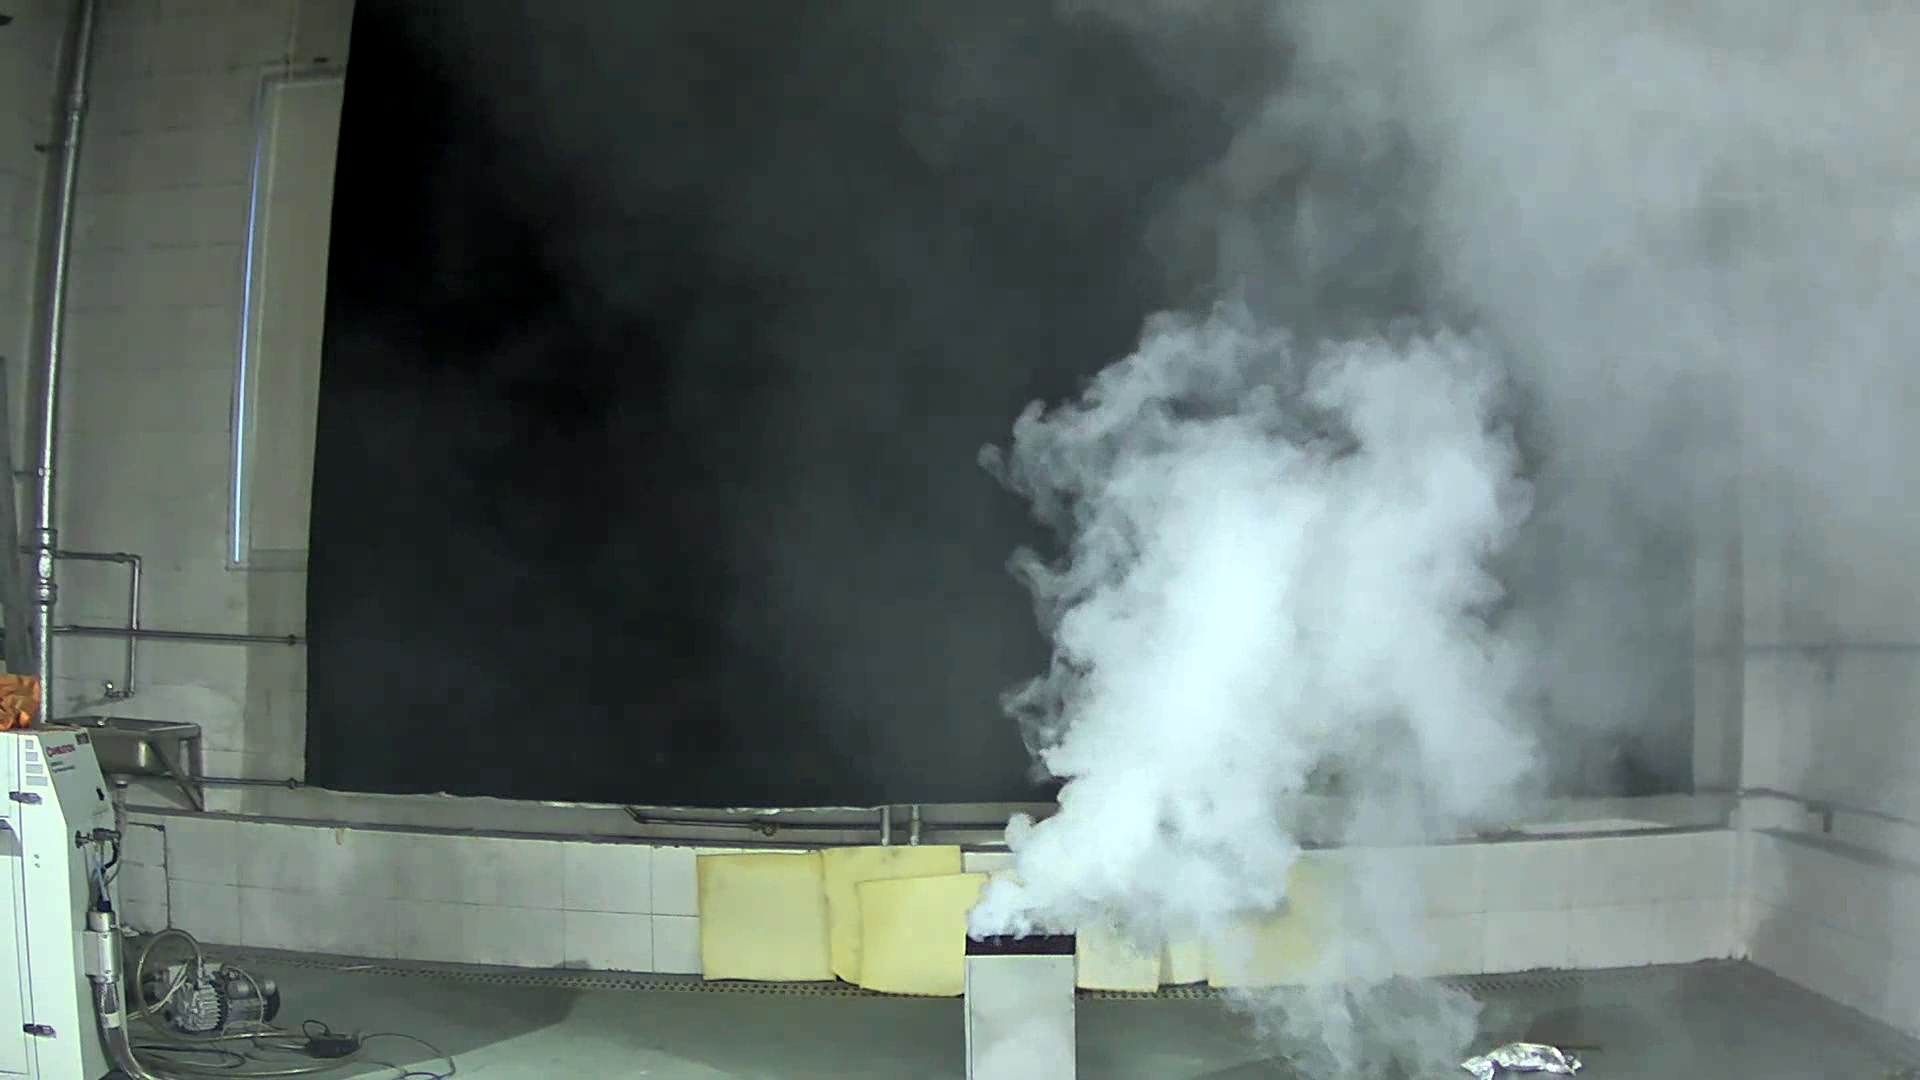smoke: (927, 301, 1544, 951)
